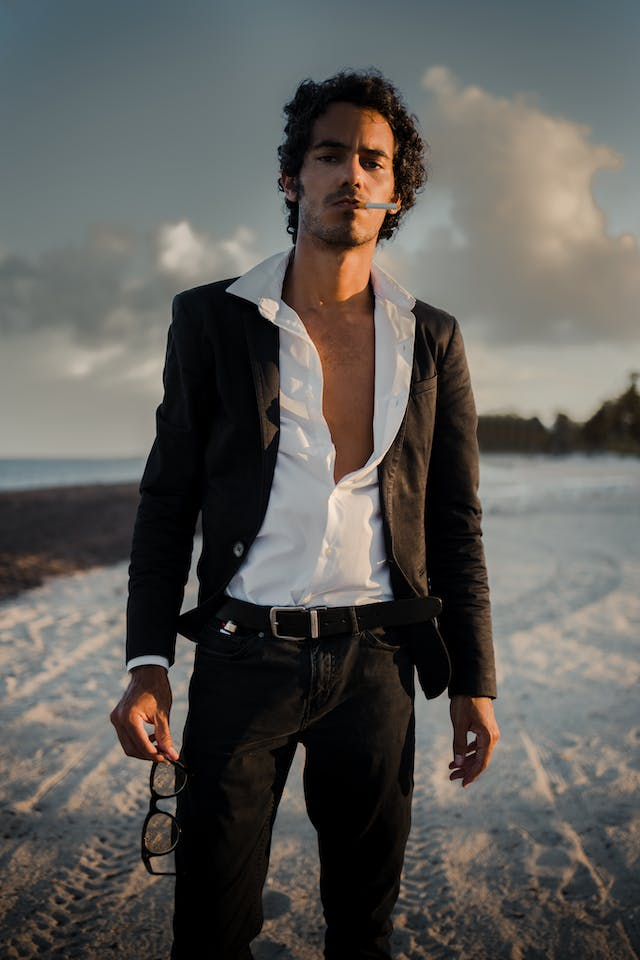Cigarette: (354, 201, 402, 211)
